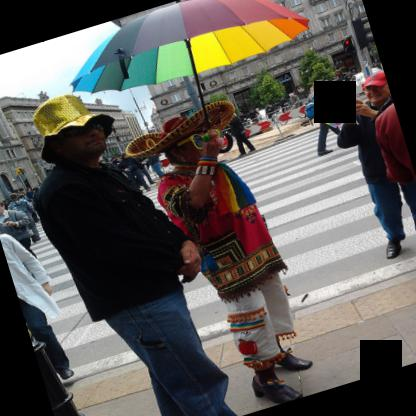backpack: (304, 89, 322, 119), (9, 200, 28, 214)
